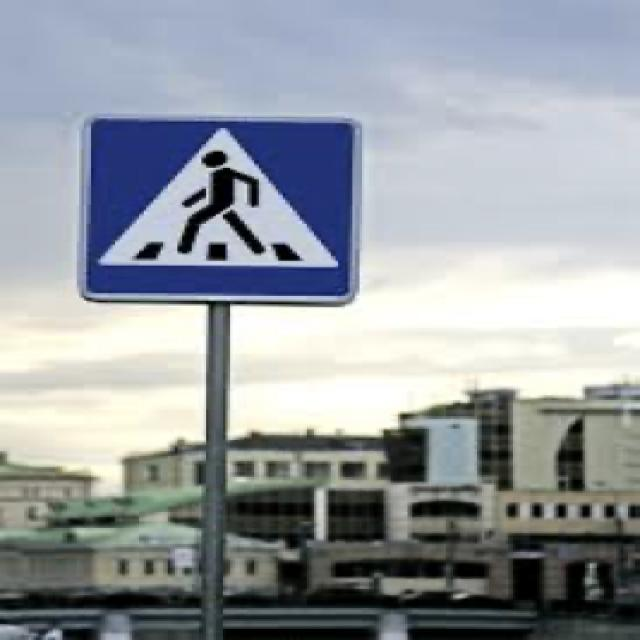crosswalk: (75, 115, 352, 304)
